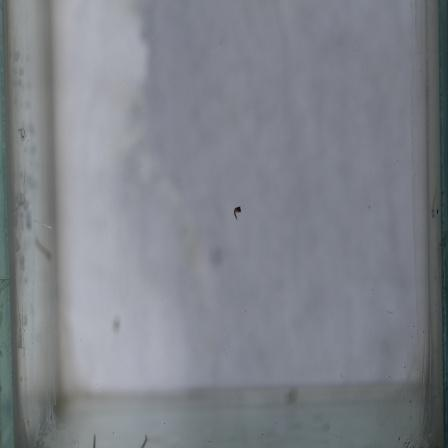Jentik-Nyamuk: (230, 199, 247, 225)
